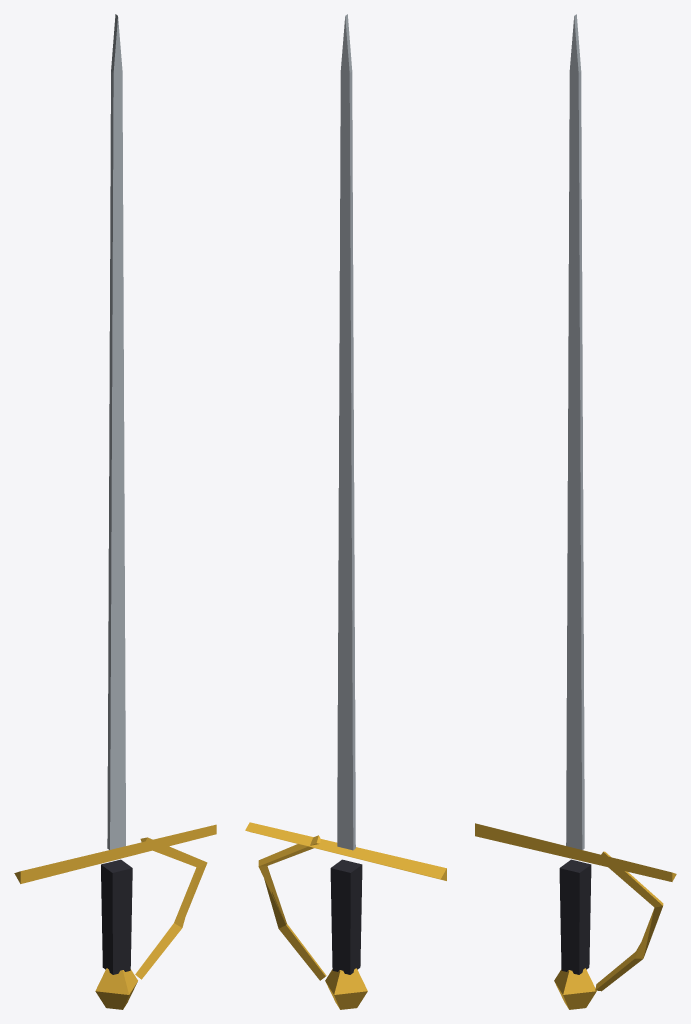
The model's file is SM_Prop_GildedRapier_LQ.glb.
3 renders of one model, left to right at view 1: azimuth 30°, elevation 25°; view 2: azimuth 150°, elevation 25°; view 3: azimuth 330°, elevation 25°, orthographic.
Parts seen in each view (by area): view 1: SM_Prop_GildedRapier_LQ; view 2: SM_Prop_GildedRapier_LQ; view 3: SM_Prop_GildedRapier_LQ.
Part boxes in pixels (box(x1,y1,x2,y2)): SM_Prop_GildedRapier_LQ: box(14, 14, 216, 1009); SM_Prop_GildedRapier_LQ: box(245, 14, 446, 1009); SM_Prop_GildedRapier_LQ: box(475, 14, 676, 1009).
Bounding box in the file's own units: 0.22 × 1.06 × 0.048.
1 material, 1 textured.
